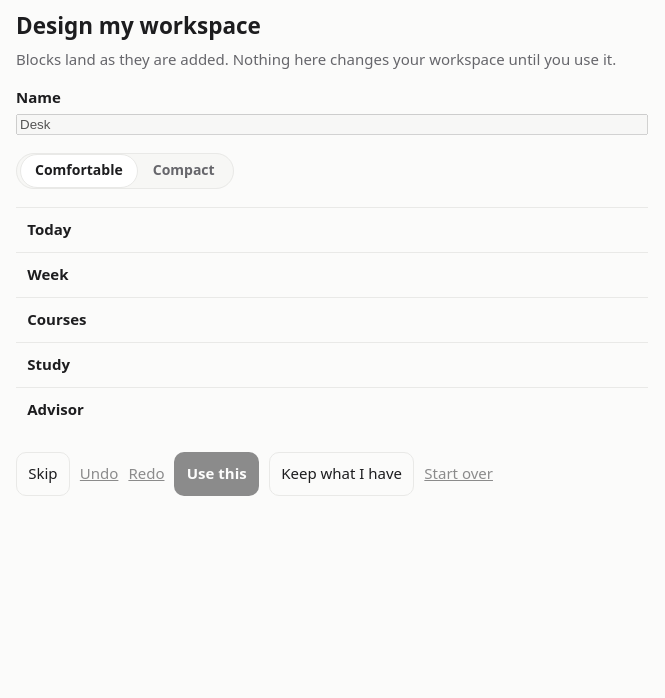
Test: WorkspaceStudio replay › Skip shows the finished spec and stops the stream
Click the button "Skip" at (43,474), box left=16, top=452, right=70, bottom=496
Wait 880 ms
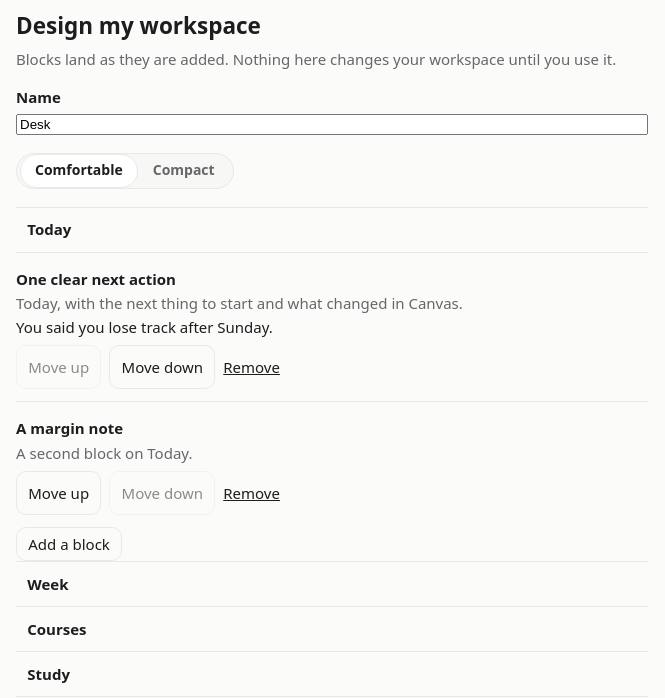
Check: the text "One clear next action" is shown, box left=16, top=268, right=176, bottom=288
Check: the button "Skip" is gone
Check: the text "A margin note" is shown once, box left=16, top=418, right=123, bottom=438
